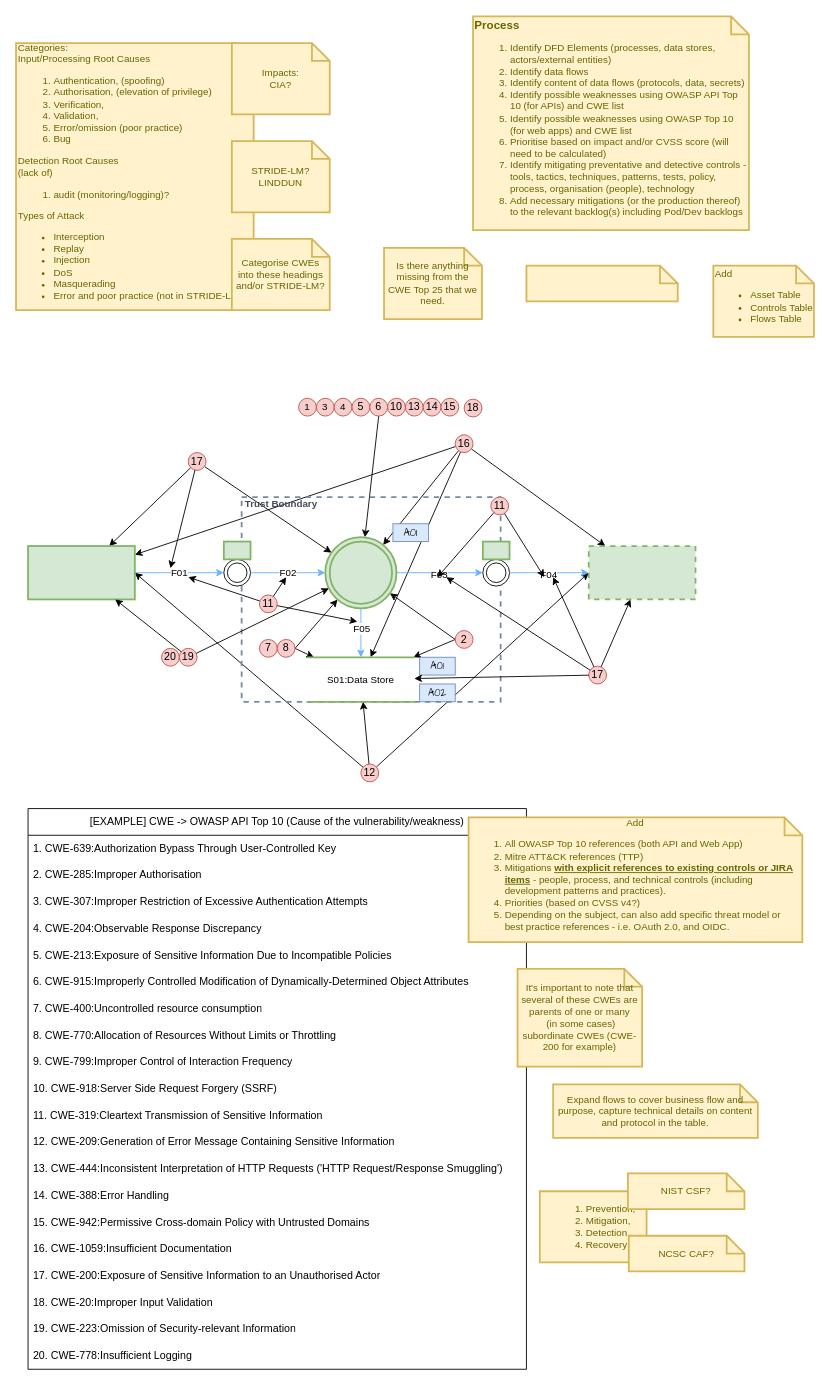
This 830x1385 diagram has some shape labels left out. The shapes that lost their labels are listed below. From the top down, each one's centre as x and y in pixels, then its label:
At (601,283): "Identify standard list of threat source and agents".
At (236,550): "C01".
At (495,550): "C02".
At (81,572): "E01:Client".
At (360,572): "P01:API".
At (641,572): "E02:External Resource".
